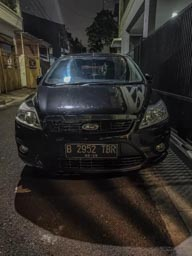plat: (65, 142, 119, 154)
